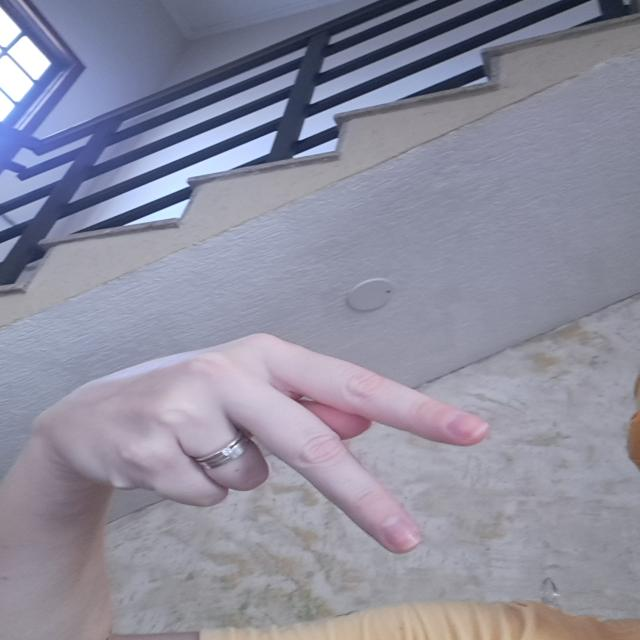P: (26, 329, 507, 563)
